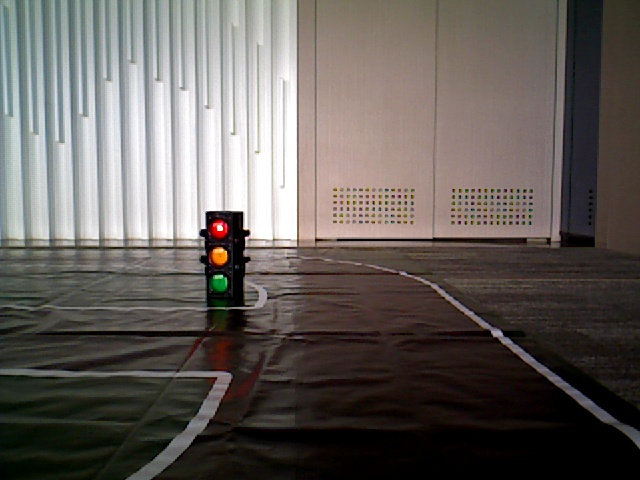red: (208, 213, 233, 294)
